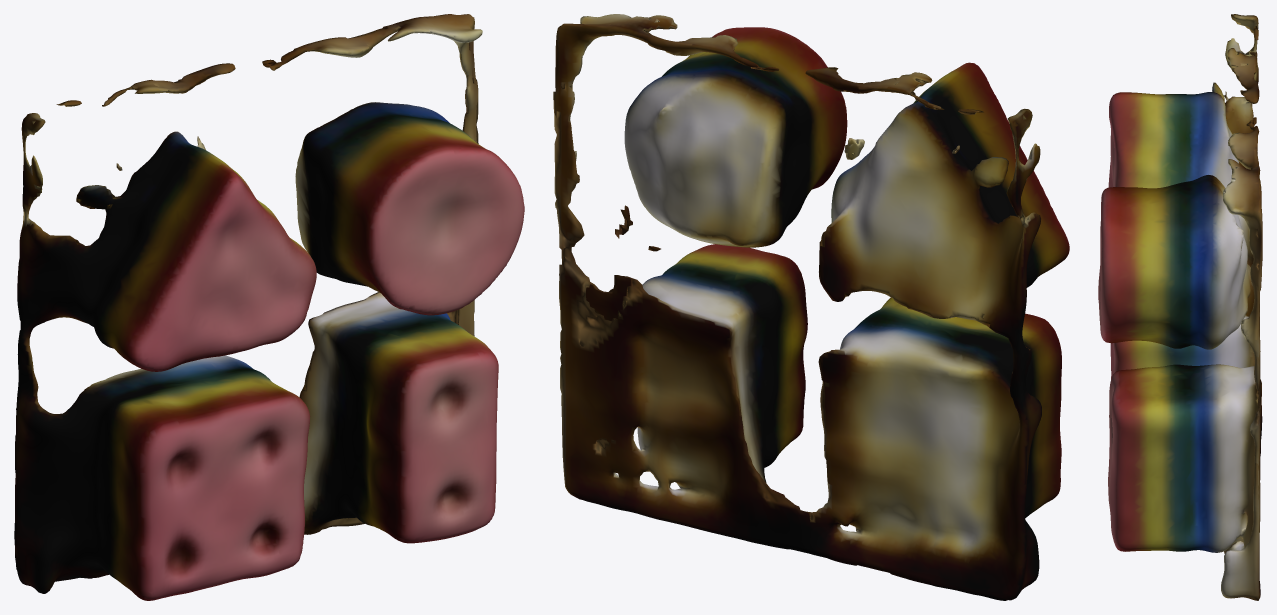
File: sorting_board.glb
3 renders of one model, left to right at view 1: azimuth 30°, elevation 25°; view 2: azimuth 150°, elevation 25°; view 3: azimuth 270°, elevation 25°, orthographic. The views are drawn at different scales.
Bounding box in the file's own units: 0.9963 × 0.9988 × 0.3569.
